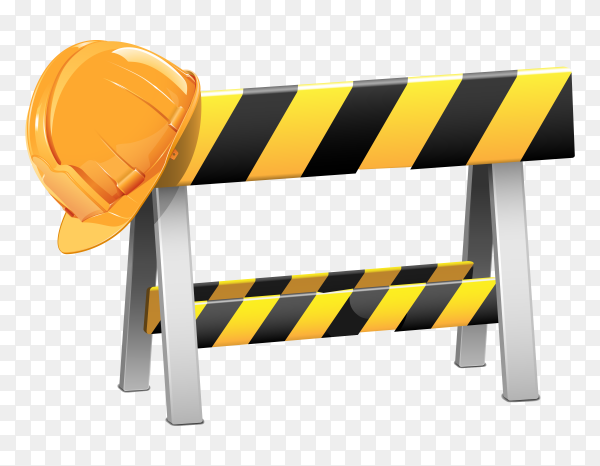Barrier: (18, 37, 584, 431)
